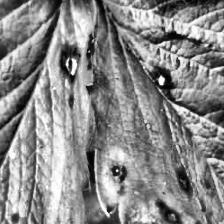Leaf Spot: (84, 0, 224, 224), (0, 0, 94, 224)
